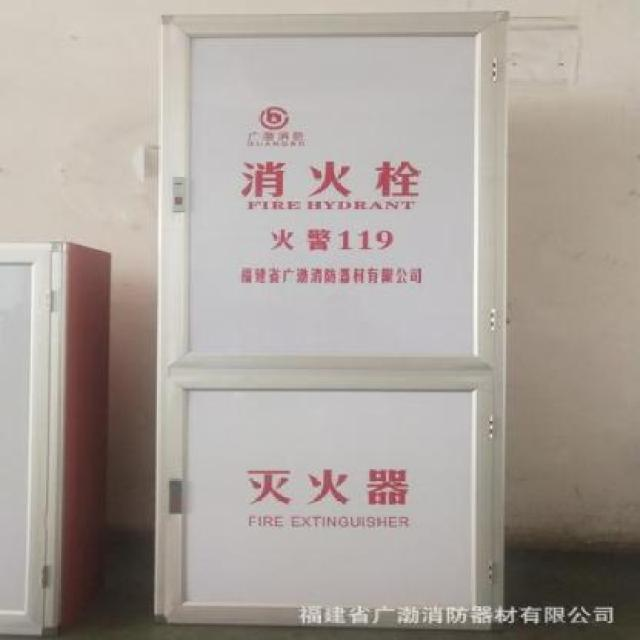firehydrant: (149, 6, 514, 634), (3, 237, 121, 640)
